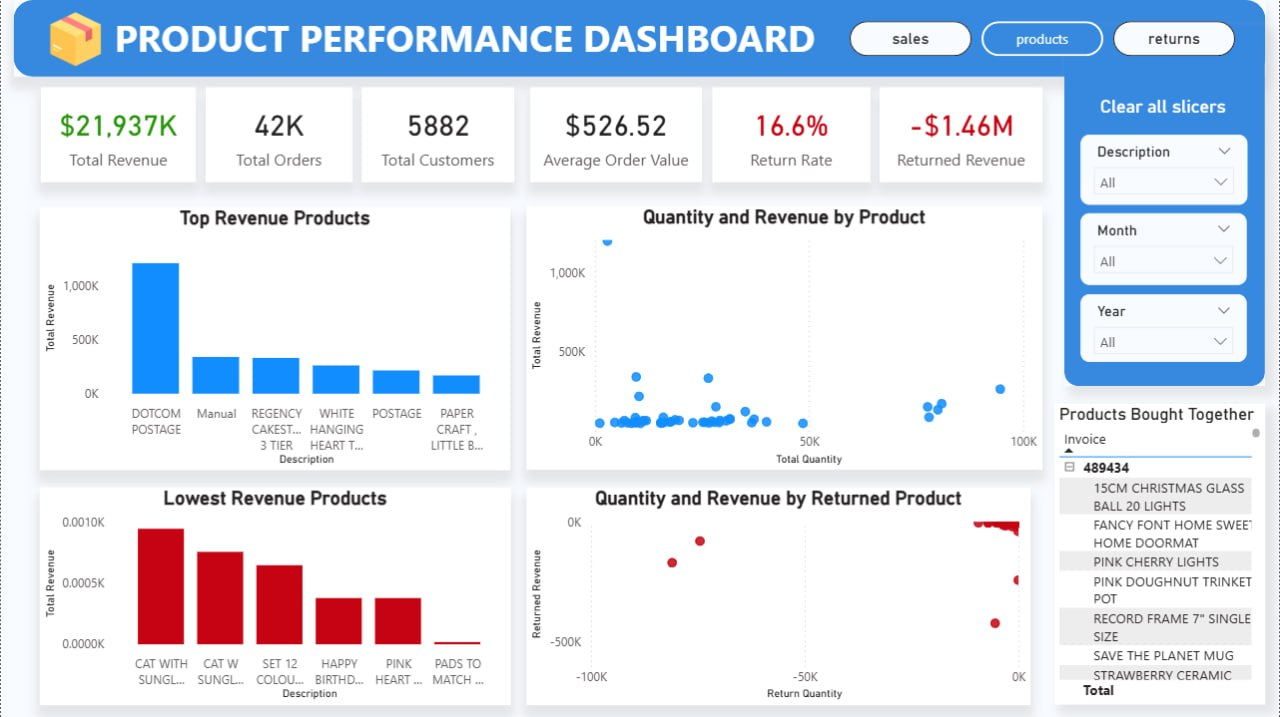

Layout of this report page (visuals, bound fields, positions):
{"tool":"powerbi","page":{"name":"products","canvas":[1280,720],"ordinal":1},"visuals":[{"type":"shape","box":[13,0,1254,77],"z":0},{"type":"shape","box":[1064.4,25.6,201.1,362.2],"z":1000},{"type":"columnChart","title":"Top Revenue Products","fields":{"Category":["NTI_cleaned.Description"],"Y":["NTI_cleaned.Total Revenue"]},"box":[38.6,207.1,471.4,264.3],"z":2000},{"type":"slicer","fields":{"Values":["Calendar.Year"]},"box":[1081.6,295.4,166.4,67.6],"z":2000,"group":"g2"},{"type":"scatterChart","title":"Quantity and Revenue by Product","fields":{"X":["NTI_cleaned.Total Quantity"],"Y":["NTI_cleaned.Total Revenue"],"Category":["NTI_cleaned.Description"]},"box":[526.7,206.7,516.7,265],"z":3000},{"type":"slicer","fields":{"Values":["Calendar.Month"]},"box":[1081.6,213.9,166.4,72],"z":3000,"group":"g2"},{"type":"textbox","box":[97.1,7.1,734.3,62.9],"z":4000},{"type":"card","fields":{"Values":["NTI_cleaned.Total Revenue"]},"box":[40,88,155.5,95],"z":4000,"group":"g1"},{"type":"slicer","fields":{"Values":["NTI_cleaned.Description"]},"box":[1081,135,167,70.8],"z":4000,"group":"g2"},{"type":"group","id":"g1","title":"Group 1","box":[40,88,1004,95.8],"z":5000},{"type":"card","fields":{"Values":["NTI_cleaned.Total Orders"]},"box":[204.7,88.5,147.4,95.3],"z":5000,"group":"g1"},{"type":"actionButton","box":[1090,86.7,147.8,40],"z":6000},{"type":"card","fields":{"Values":["NTI_cleaned.Total Customers"]},"box":[361.6,88,152.9,95],"z":6000,"group":"g1"},{"type":"card","fields":{"Values":["NTI_cleaned.Average Order Value"]},"box":[530.2,88,172.1,95],"z":7000,"group":"g1"},{"type":"group","id":"g2","title":"Group 2","box":[1081,135,167,228],"z":7000},{"type":"pageNavigator","box":[850,21.7,386.7,35],"z":8000},{"type":"card","fields":{"Values":["NTI_canceled.Return Rate"]},"box":[712.8,88,158.2,95],"z":8000,"group":"g1"},{"type":"card","fields":{"Values":["NTI_canceled.Returned Revenue"]},"box":[880.6,88,163.4,95],"z":9000,"group":"g1"},{"type":"pivotTable","title":"Products Bought Together","fields":{"Rows":["NTI_cleaned.Invoice","NTI_cleaned.Description"]},"box":[1055.4,405.4,211.5,301.5],"z":9000},{"type":"columnChart","title":"Lowest Revenue Products","fields":{"Category":["NTI_cleaned.Description"],"Y":["NTI_cleaned.Total Revenue"]},"box":[38.3,488.3,471.7,218.3],"z":10000},{"type":"scatterChart","title":"Quantity and Revenue by Returned Product","fields":{"Y":["NTI_canceled.Returned Revenue"],"X":["NTI_canceled.Return Quantity"],"Category":["NTI_canceled.Description"]},"box":[526.7,488.3,505,218.3],"z":11000},{"type":"image","box":[46.7,12.5,56.7,53.3],"z":12000}]}

Visuals, with their boxes in screenshot pixels (x1, y1, x2, y2), scaled from the page's 1280x720 canvas onto the 1280x717 screenshot:
shape: l=13, t=0, r=1267, b=77
shape: l=1064, t=25, r=1266, b=386
"Top Revenue Products" columnChart: l=39, t=206, r=510, b=469
slicer - Calendar.Year: l=1082, t=294, r=1248, b=361
"Quantity and Revenue by Product" scatterChart: l=527, t=206, r=1043, b=470
slicer - Calendar.Month: l=1082, t=213, r=1248, b=285
textbox: l=97, t=7, r=831, b=70
card - NTI_cleaned.Total Revenue: l=40, t=88, r=196, b=182
slicer - NTI_cleaned.Description: l=1081, t=134, r=1248, b=205
"Group 1" group: l=40, t=88, r=1044, b=183
card - NTI_cleaned.Total Orders: l=205, t=88, r=352, b=183
actionButton: l=1090, t=86, r=1238, b=126
card - NTI_cleaned.Total Customers: l=362, t=88, r=514, b=182
card - NTI_cleaned.Average Order Value: l=530, t=88, r=702, b=182
"Group 2" group: l=1081, t=134, r=1248, b=361
pageNavigator: l=850, t=22, r=1237, b=56
card - NTI_canceled.Return Rate: l=713, t=88, r=871, b=182
card - NTI_canceled.Returned Revenue: l=881, t=88, r=1044, b=182
"Products Bought Together" pivotTable: l=1055, t=404, r=1267, b=704
"Lowest Revenue Products" columnChart: l=38, t=486, r=510, b=704
"Quantity and Revenue by Returned Product" scatterChart: l=527, t=486, r=1032, b=704
image: l=47, t=12, r=103, b=66
